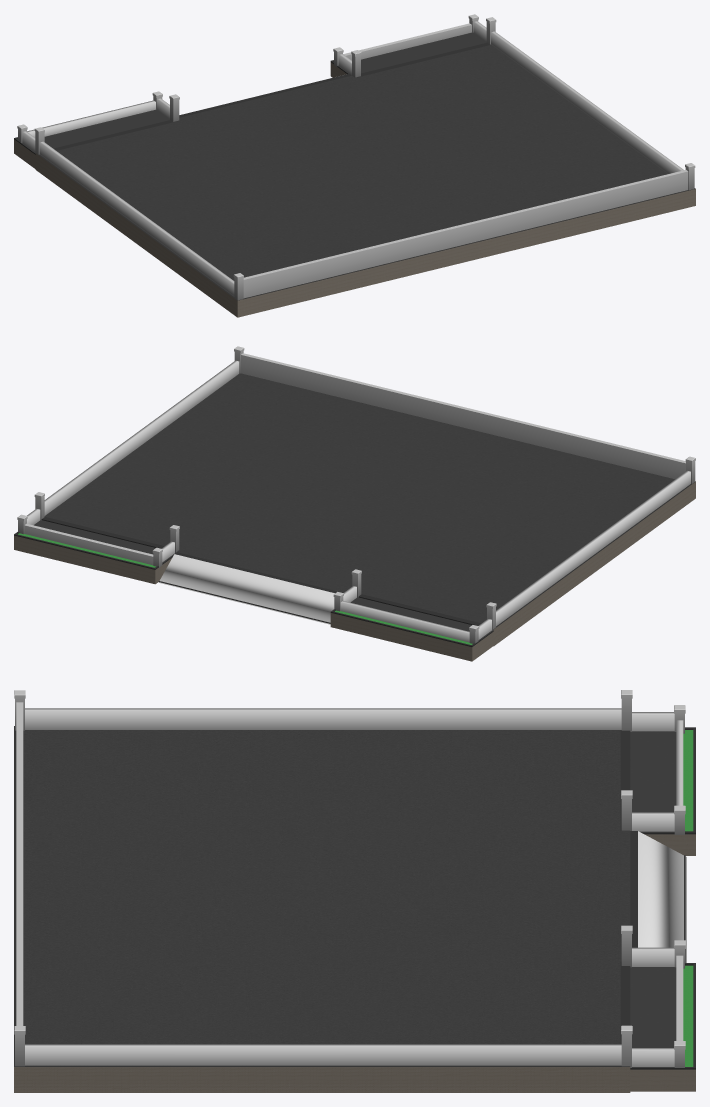
Rendered from 2FloorSMA.fbx.
3 views of the same model, one above another, from view 1: azimuth 30°, elevation 25°; view 2: azimuth 150°, elevation 25°; view 3: azimuth 270°, elevation 25° (orthographic). The views are drawn at different scales.
Parts seen in each view (by area): view 1: SMAFloor1, SMA_Wall3, SMA_Wall2, SMA_Wall1, SMAFloor3, SMAFloor2, SMA_Wall6, SMA_Wall5, TanggaSMA; view 2: SMAFloor1, SMA_Wall3, ColiderTangga_SMA, SMAFloor3, SMAFloor2, SMA_Wall1, SMA_Wall2, SMA_Wall6, SMA_Wall5, TanggaSMA; view 3: SMAFloor1, SMA_Wall1, SMA_Wall2, SMAFloor2, SMAFloor3, ColiderTangga_SMA, SMA_Wall3, TanggaSMA, SMA_Wall4, SMA_Wall8, SMA_Wall9, SMA_Wall7 (+2 smaller).
Boxes of the visible parts, x1=… form: SMAFloor1: x1=35, y1=43, x2=695, y2=317; SMA_Wall3: x1=243, y1=170, x2=688, y2=298; SMA_Wall2: x1=39, y1=141, x2=234, y2=296; SMA_Wall1: x1=491, y1=31, x2=683, y2=173; SMAFloor3: x1=14, y1=109, x2=169, y2=168; SMAFloor2: x1=330, y1=32, x2=486, y2=77; SMA_Wall6: x1=27, y1=100, x2=155, y2=137; SMA_Wall5: x1=343, y1=23, x2=471, y2=60; TanggaSMA: x1=179, y1=73, x2=351, y2=117; SMAFloor1: x1=41, y1=373, x2=695, y2=646; SMA_Wall3: x1=241, y1=353, x2=685, y2=479; ColiderTangga_SMA: x1=158, y1=554, x2=334, y2=624; SMAFloor3: x1=330, y1=597, x2=493, y2=661; SMAFloor2: x1=14, y1=520, x2=175, y2=584; SMA_Wall1: x1=44, y1=360, x2=239, y2=515; SMA_Wall2: x1=496, y1=470, x2=690, y2=626; SMA_Wall6: x1=340, y1=601, x2=469, y2=642; SMA_Wall5: x1=24, y1=523, x2=153, y2=565; TanggaSMA: x1=158, y1=552, x2=343, y2=623; SMAFloor1: x1=14, y1=726, x2=630, y2=1092; SMA_Wall1: x1=25, y1=1044, x2=621, y2=1065; SMA_Wall2: x1=25, y1=708, x2=621, y2=729; SMAFloor2: x1=630, y1=963, x2=695, y2=1091; SMAFloor3: x1=630, y1=727, x2=695, y2=855; ColiderTangga_SMA: x1=638, y1=831, x2=686, y2=962; SMA_Wall3: x1=16, y1=702, x2=23, y2=1025; TanggaSMA: x1=630, y1=831, x2=685, y2=962; SMA_Wall4: x1=632, y1=712, x2=674, y2=731; SMA_Wall8: x1=632, y1=947, x2=674, y2=966; SMA_Wall9: x1=632, y1=812, x2=674, y2=831; SMA_Wall7: x1=632, y1=1048, x2=674, y2=1066.
Bounding box in the file's own units: 8339 × 708 × 7045.
